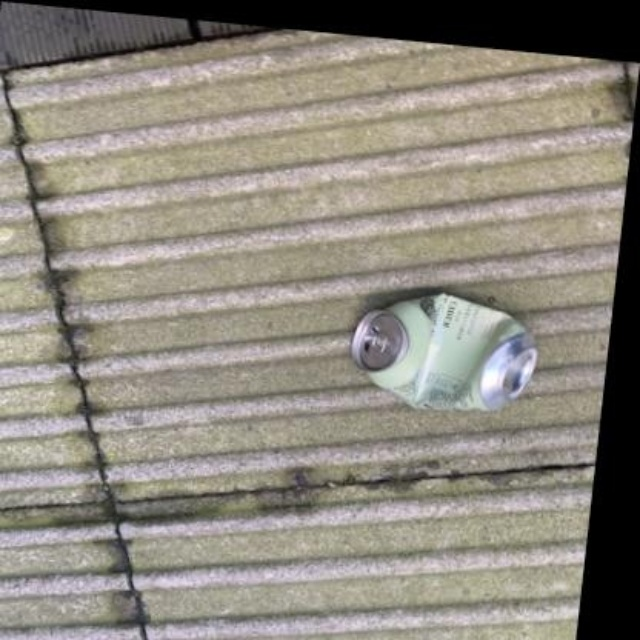trash: (351, 294, 535, 409)
